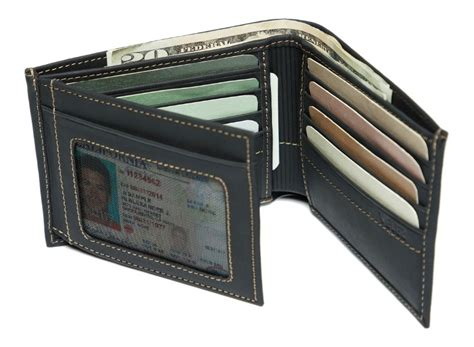cuero: (22, 19, 434, 326)
